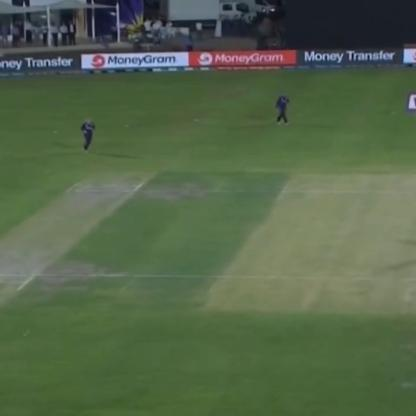ball: (20, 326, 26, 334), (21, 332, 26, 339)
